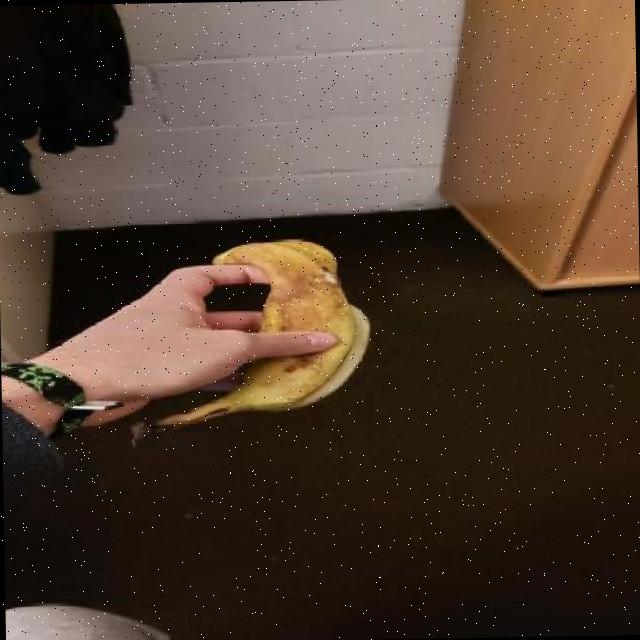banana-peel: (126, 233, 372, 443)
